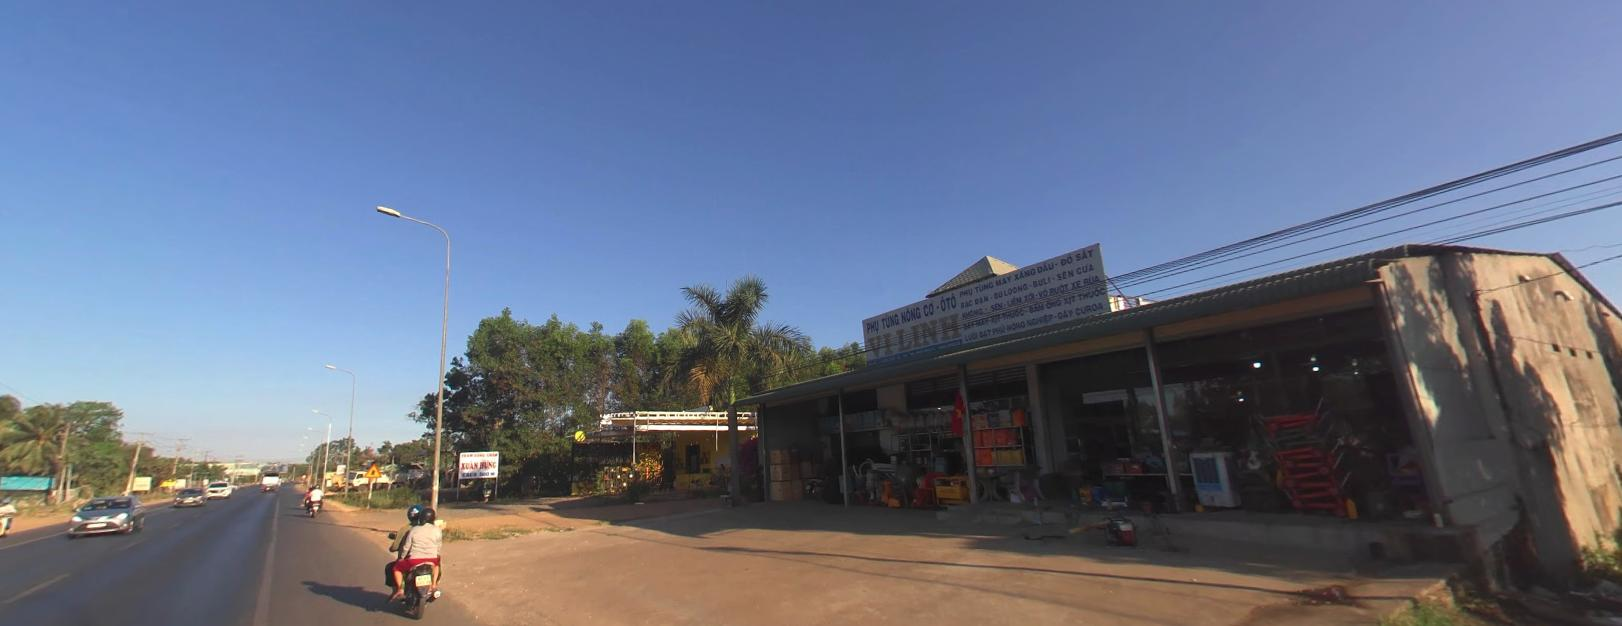Nguy hiem: (362, 460, 382, 477)
